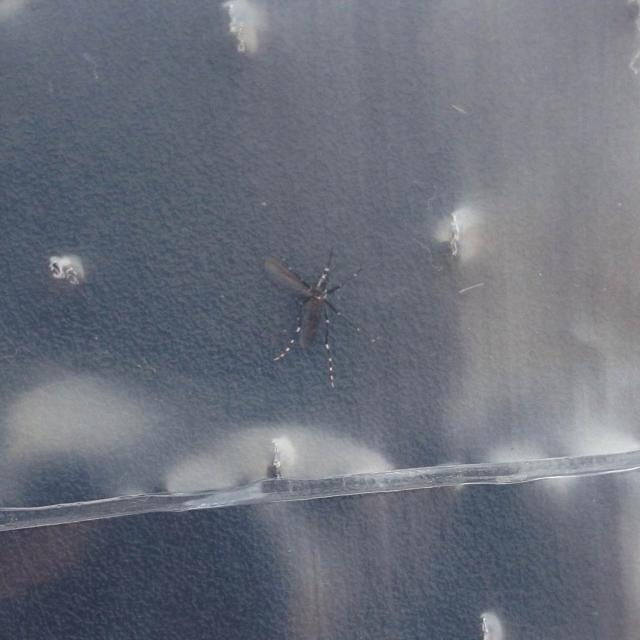albopictus: (257, 238, 375, 393)
